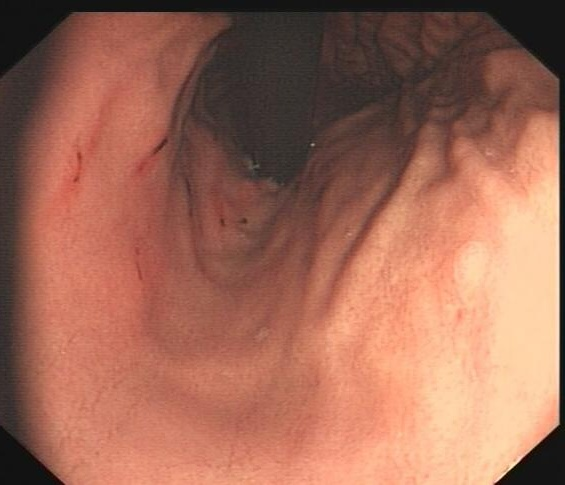Polyp: (436, 216, 511, 312)
